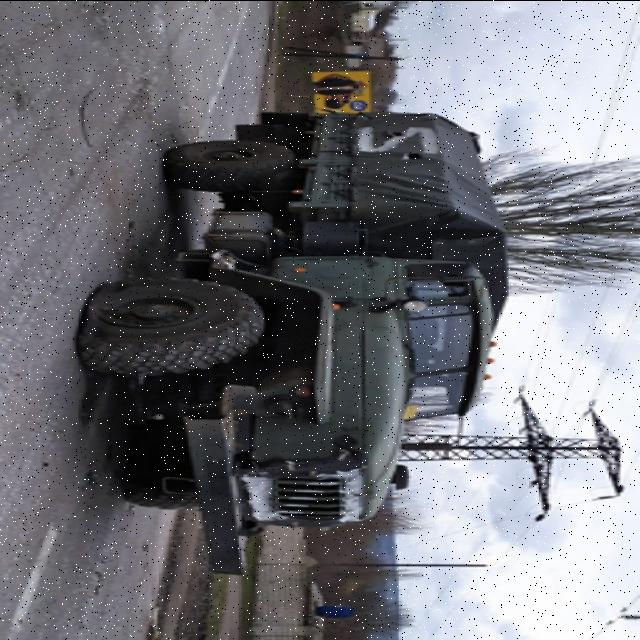TRUCK: (76, 111, 514, 576)
